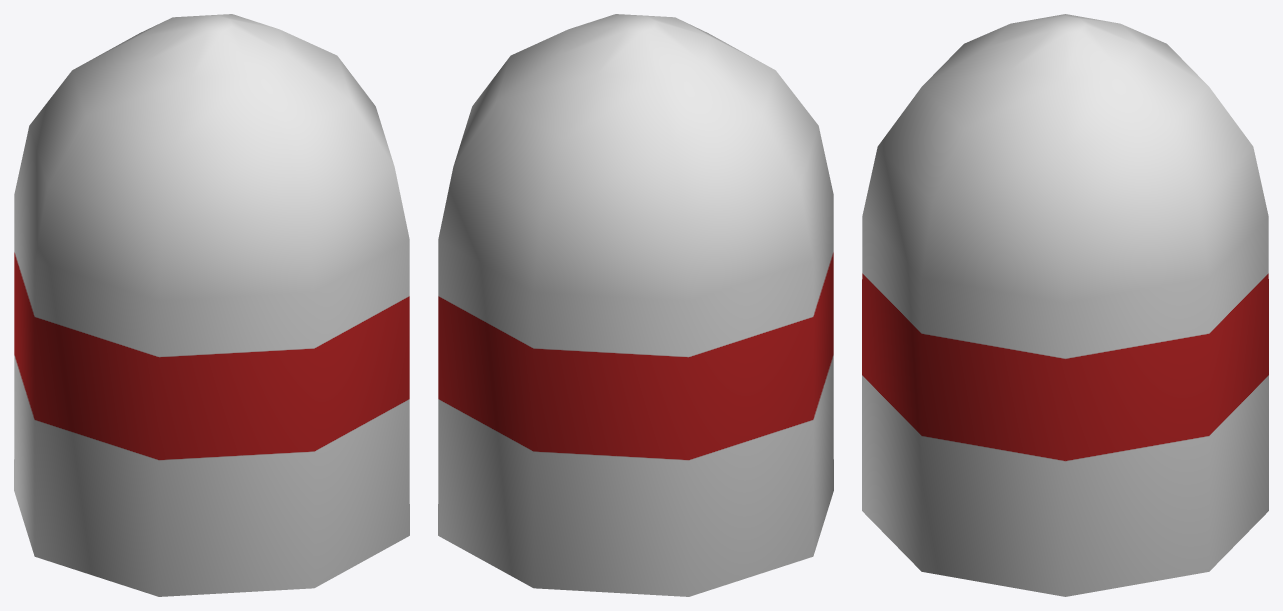
Rendered from Bullet.fbx.
3 views of the same model, side by side, from view 1: azimuth 30°, elevation 25°; view 2: azimuth 150°, elevation 25°; view 3: azimuth 270°, elevation 25° (orthographic).
Visible parts, largest first — view 1: Bullet; view 2: Bullet; view 3: Bullet.
Boxes of the visible parts, x1=… form: Bullet: x1=14, y1=14, x2=409, y2=596; Bullet: x1=438, y1=14, x2=833, y2=596; Bullet: x1=862, y1=14, x2=1268, y2=596.
Size of the model in its own units: 35.5 by 46.8 by 35.5.
